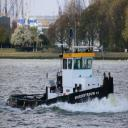tugboat: (6, 3, 116, 117)
